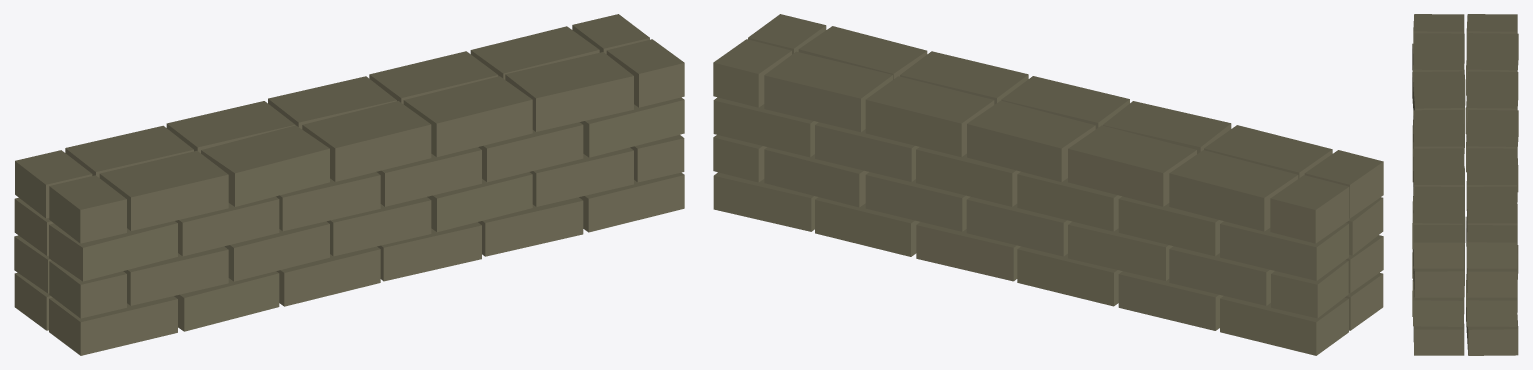
File: SM_PretilTramo_v0_Recto_e0_Sano_LOD0.fbx
The picture shows the model from 3 angles, left to right: view 1: azimuth 30°, elevation 25°; view 2: azimuth 150°, elevation 25°; view 3: azimuth 270°, elevation 25°; orthographic projection. The views are drawn at different scales.
Parts seen in each view (by area): view 1: SM_pretil_azotea_v0_LOD0; view 2: SM_pretil_azotea_v0_LOD0; view 3: SM_pretil_azotea_v0_LOD0.
Boxes of the visible parts, left/top/right/bottom form: SM_pretil_azotea_v0_LOD0: left=14, top=14, right=684, bottom=355; SM_pretil_azotea_v0_LOD0: left=713, top=14, right=1383, bottom=355; SM_pretil_azotea_v0_LOD0: left=1412, top=14, right=1518, bottom=355.
Bounding box in the file's own units: 5.07 × 1.17 × 0.9936.
